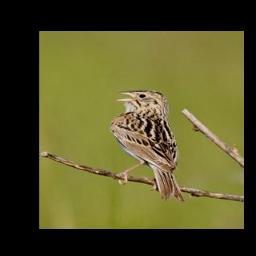Sparrow: (108, 88, 186, 204)
